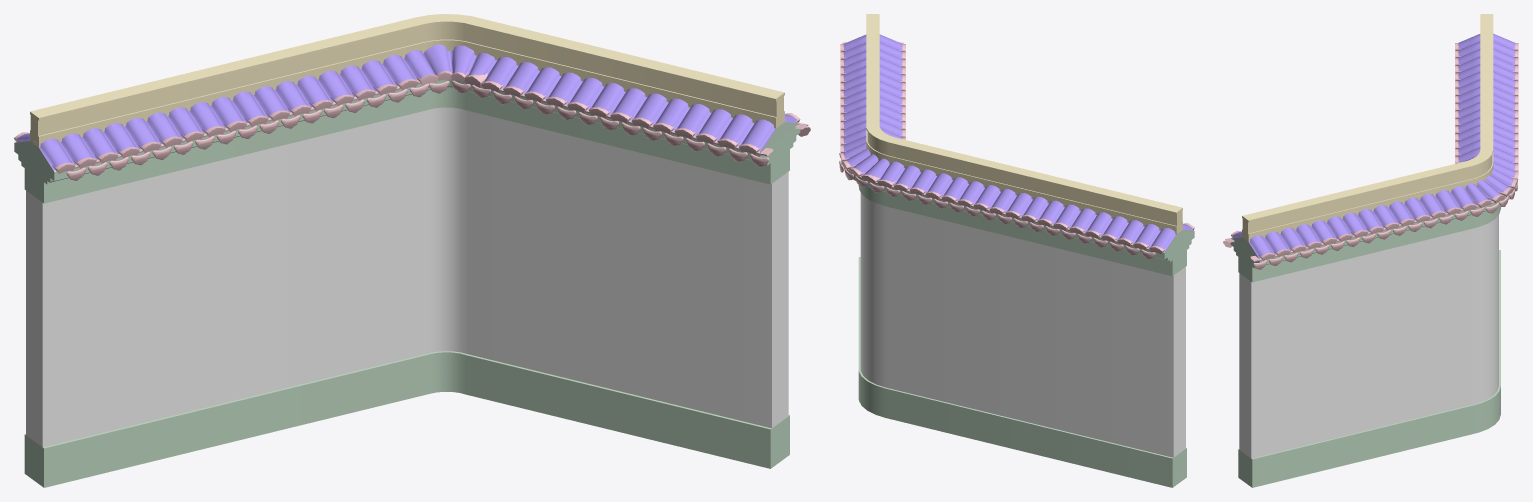
Rendered from Wall_800x300_Corner.FBX.
The picture shows the model from 3 angles, left to right: view 1: azimuth 30°, elevation 25°; view 2: azimuth 150°, elevation 25°; view 3: azimuth 270°, elevation 25°; orthographic projection. The views are drawn at different scales.
Visible parts, largest first — view 1: Garden_Tile_Wall_800x300_Corner_B_LOD00; view 2: Garden_Tile_Wall_800x300_Corner_B_LOD00; view 3: Garden_Tile_Wall_800x300_Corner_B_LOD00.
Part boxes in pixels (box(x1,y1,x2,y2)): Garden_Tile_Wall_800x300_Corner_B_LOD00: box(14, 14, 810, 487); Garden_Tile_Wall_800x300_Corner_B_LOD00: box(839, 14, 1194, 487); Garden_Tile_Wall_800x300_Corner_B_LOD00: box(1223, 14, 1518, 487).
Size of what is drawn, in the model's own units: 638 by 363 by 367.
